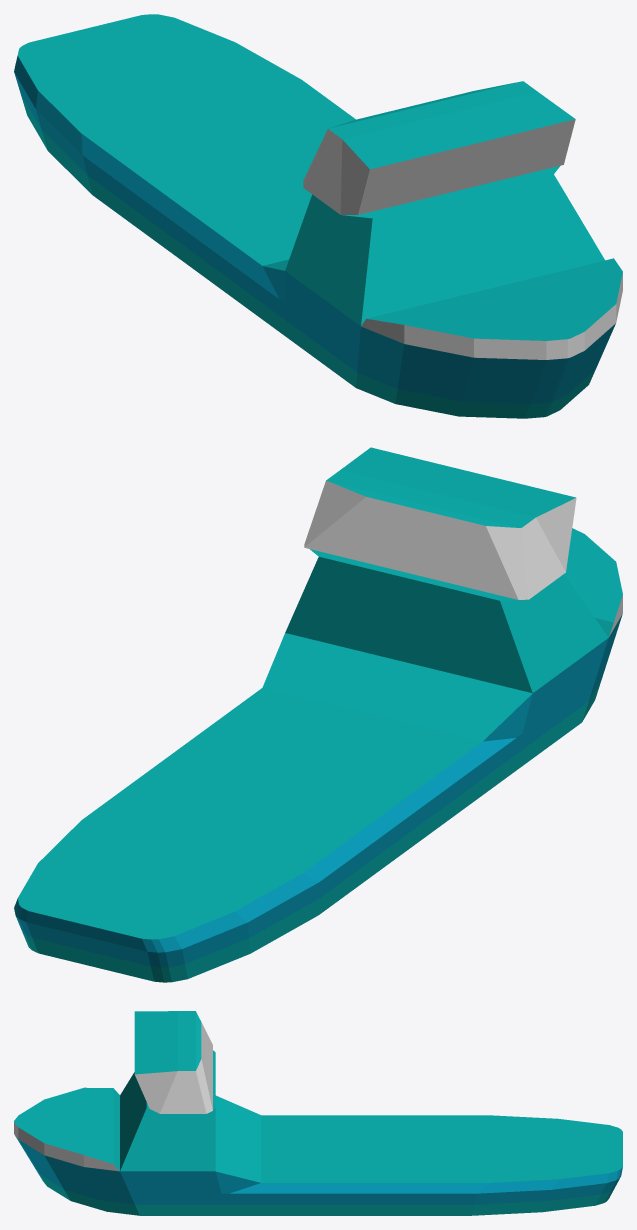
Rendered from special.glb.
3 views of the same model, one above another, from view 1: azimuth 30°, elevation 25°; view 2: azimuth 150°, elevation 25°; view 3: azimuth 270°, elevation 25° (orthographic). The views are drawn at different scales.
Visible parts, largest first — view 1: shipbase; view 2: shipbase; view 3: shipbase.
Part boxes in pixels (bbox=[...]): shipbase: bbox=[14, 14, 622, 418]; shipbase: bbox=[14, 447, 622, 982]; shipbase: bbox=[14, 1011, 622, 1215].
Bounding box in the file's own units: 17.98 × 15.46 × 60.84.
